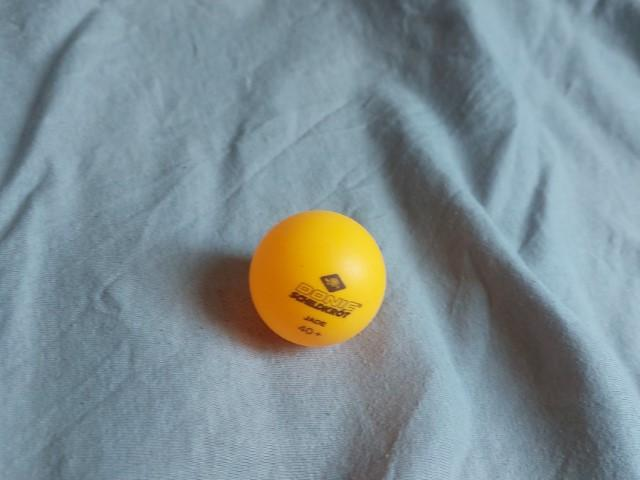oball: (240, 206, 394, 355)
